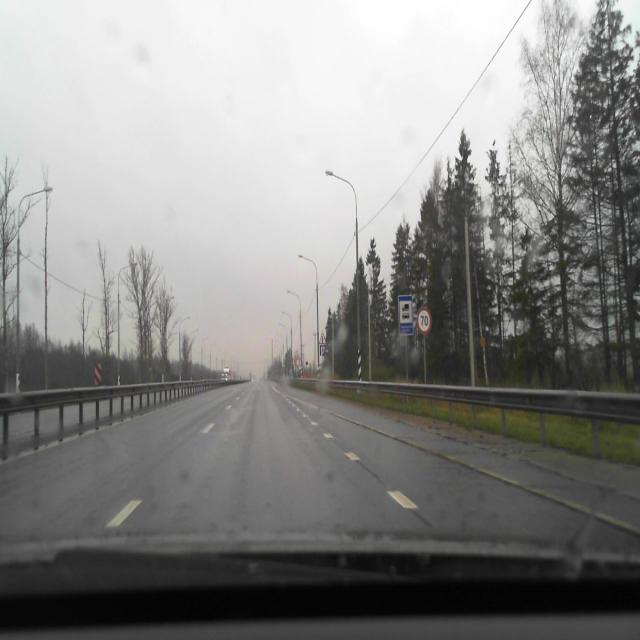road sign: (398, 295, 413, 335)
